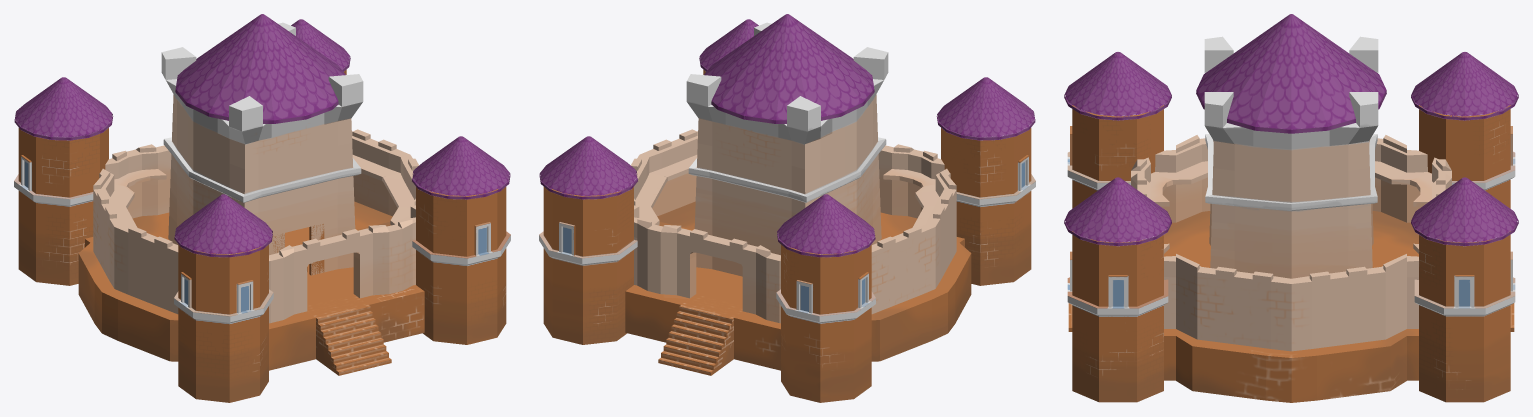
Rendered from Castle.obj.
3 renders of one model, left to right at view 1: azimuth 30°, elevation 25°; view 2: azimuth 150°, elevation 25°; view 3: azimuth 270°, elevation 25°, orthographic. The views are drawn at different scales.
Visible parts, largest first — view 1: Castle, Towres, TowerRoofs, CastleRoof; view 2: Castle, Towres, TowerRoofs, CastleRoof; view 3: Castle, Towres, TowerRoofs, CastleRoof.
Boxes of the visible parts, x1,y1,x2,y2 form: Castle: [78, 22, 424, 375]; Towres: [14, 70, 510, 402]; TowerRoofs: [14, 19, 510, 257]; CastleRoof: [175, 14, 345, 123]; Castle: [625, 22, 971, 375]; Towres: [539, 70, 1035, 402]; TowerRoofs: [539, 19, 1035, 257]; CastleRoof: [704, 14, 874, 123]; Castle: [1068, 36, 1514, 402]; Towres: [1067, 105, 1515, 402]; TowerRoofs: [1064, 52, 1518, 246]; CastleRoof: [1196, 14, 1386, 133].
Bounding box in the file's own units: 16.36 × 13.6 × 18.36.
4 materials, 4 textured.
